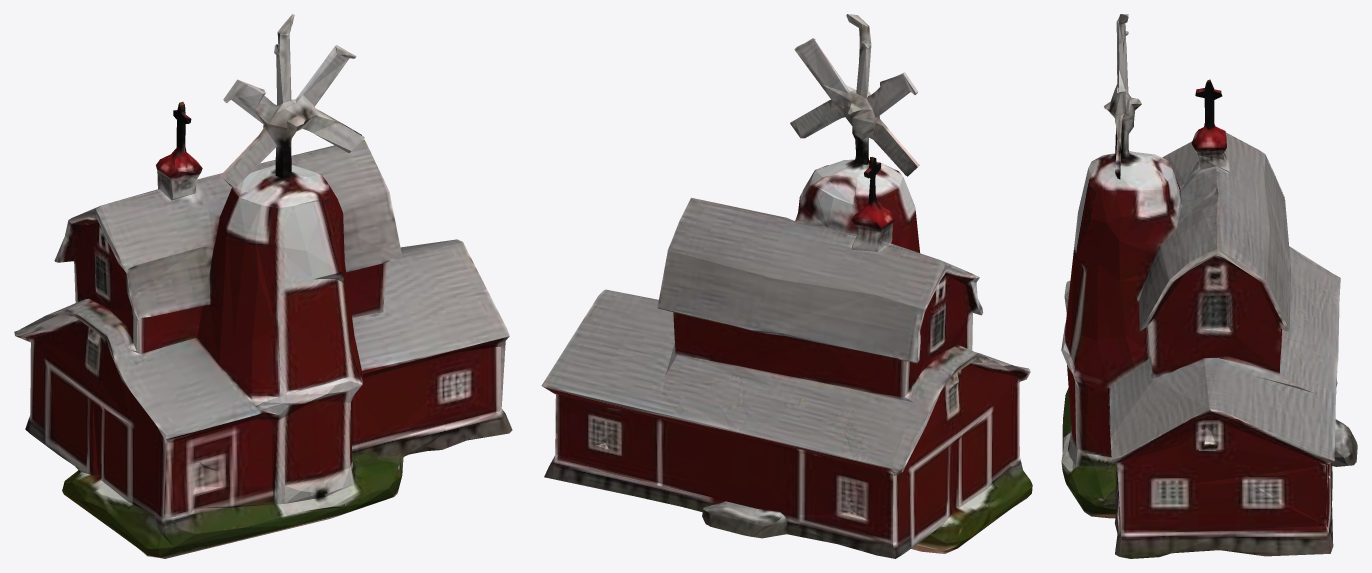
The model's file is new_england_barn.glb.
3 views of the same model, side by side, from view 1: azimuth 30°, elevation 25°; view 2: azimuth 150°, elevation 25°; view 3: azimuth 270°, elevation 25° (orthographic). The views are drawn at different scales.
Parts seen in each view (by area): view 1: textured; view 2: textured; view 3: textured.
Part boxes in pixels (x1,y1,x2,y2): textured: [14, 14, 512, 558]; textured: [541, 14, 1032, 558]; textured: [1061, 14, 1357, 558].
Bounding box in the file's own units: 1.65 × 1.97 × 1.12.
Materials: 1 (1 with a texture image).
